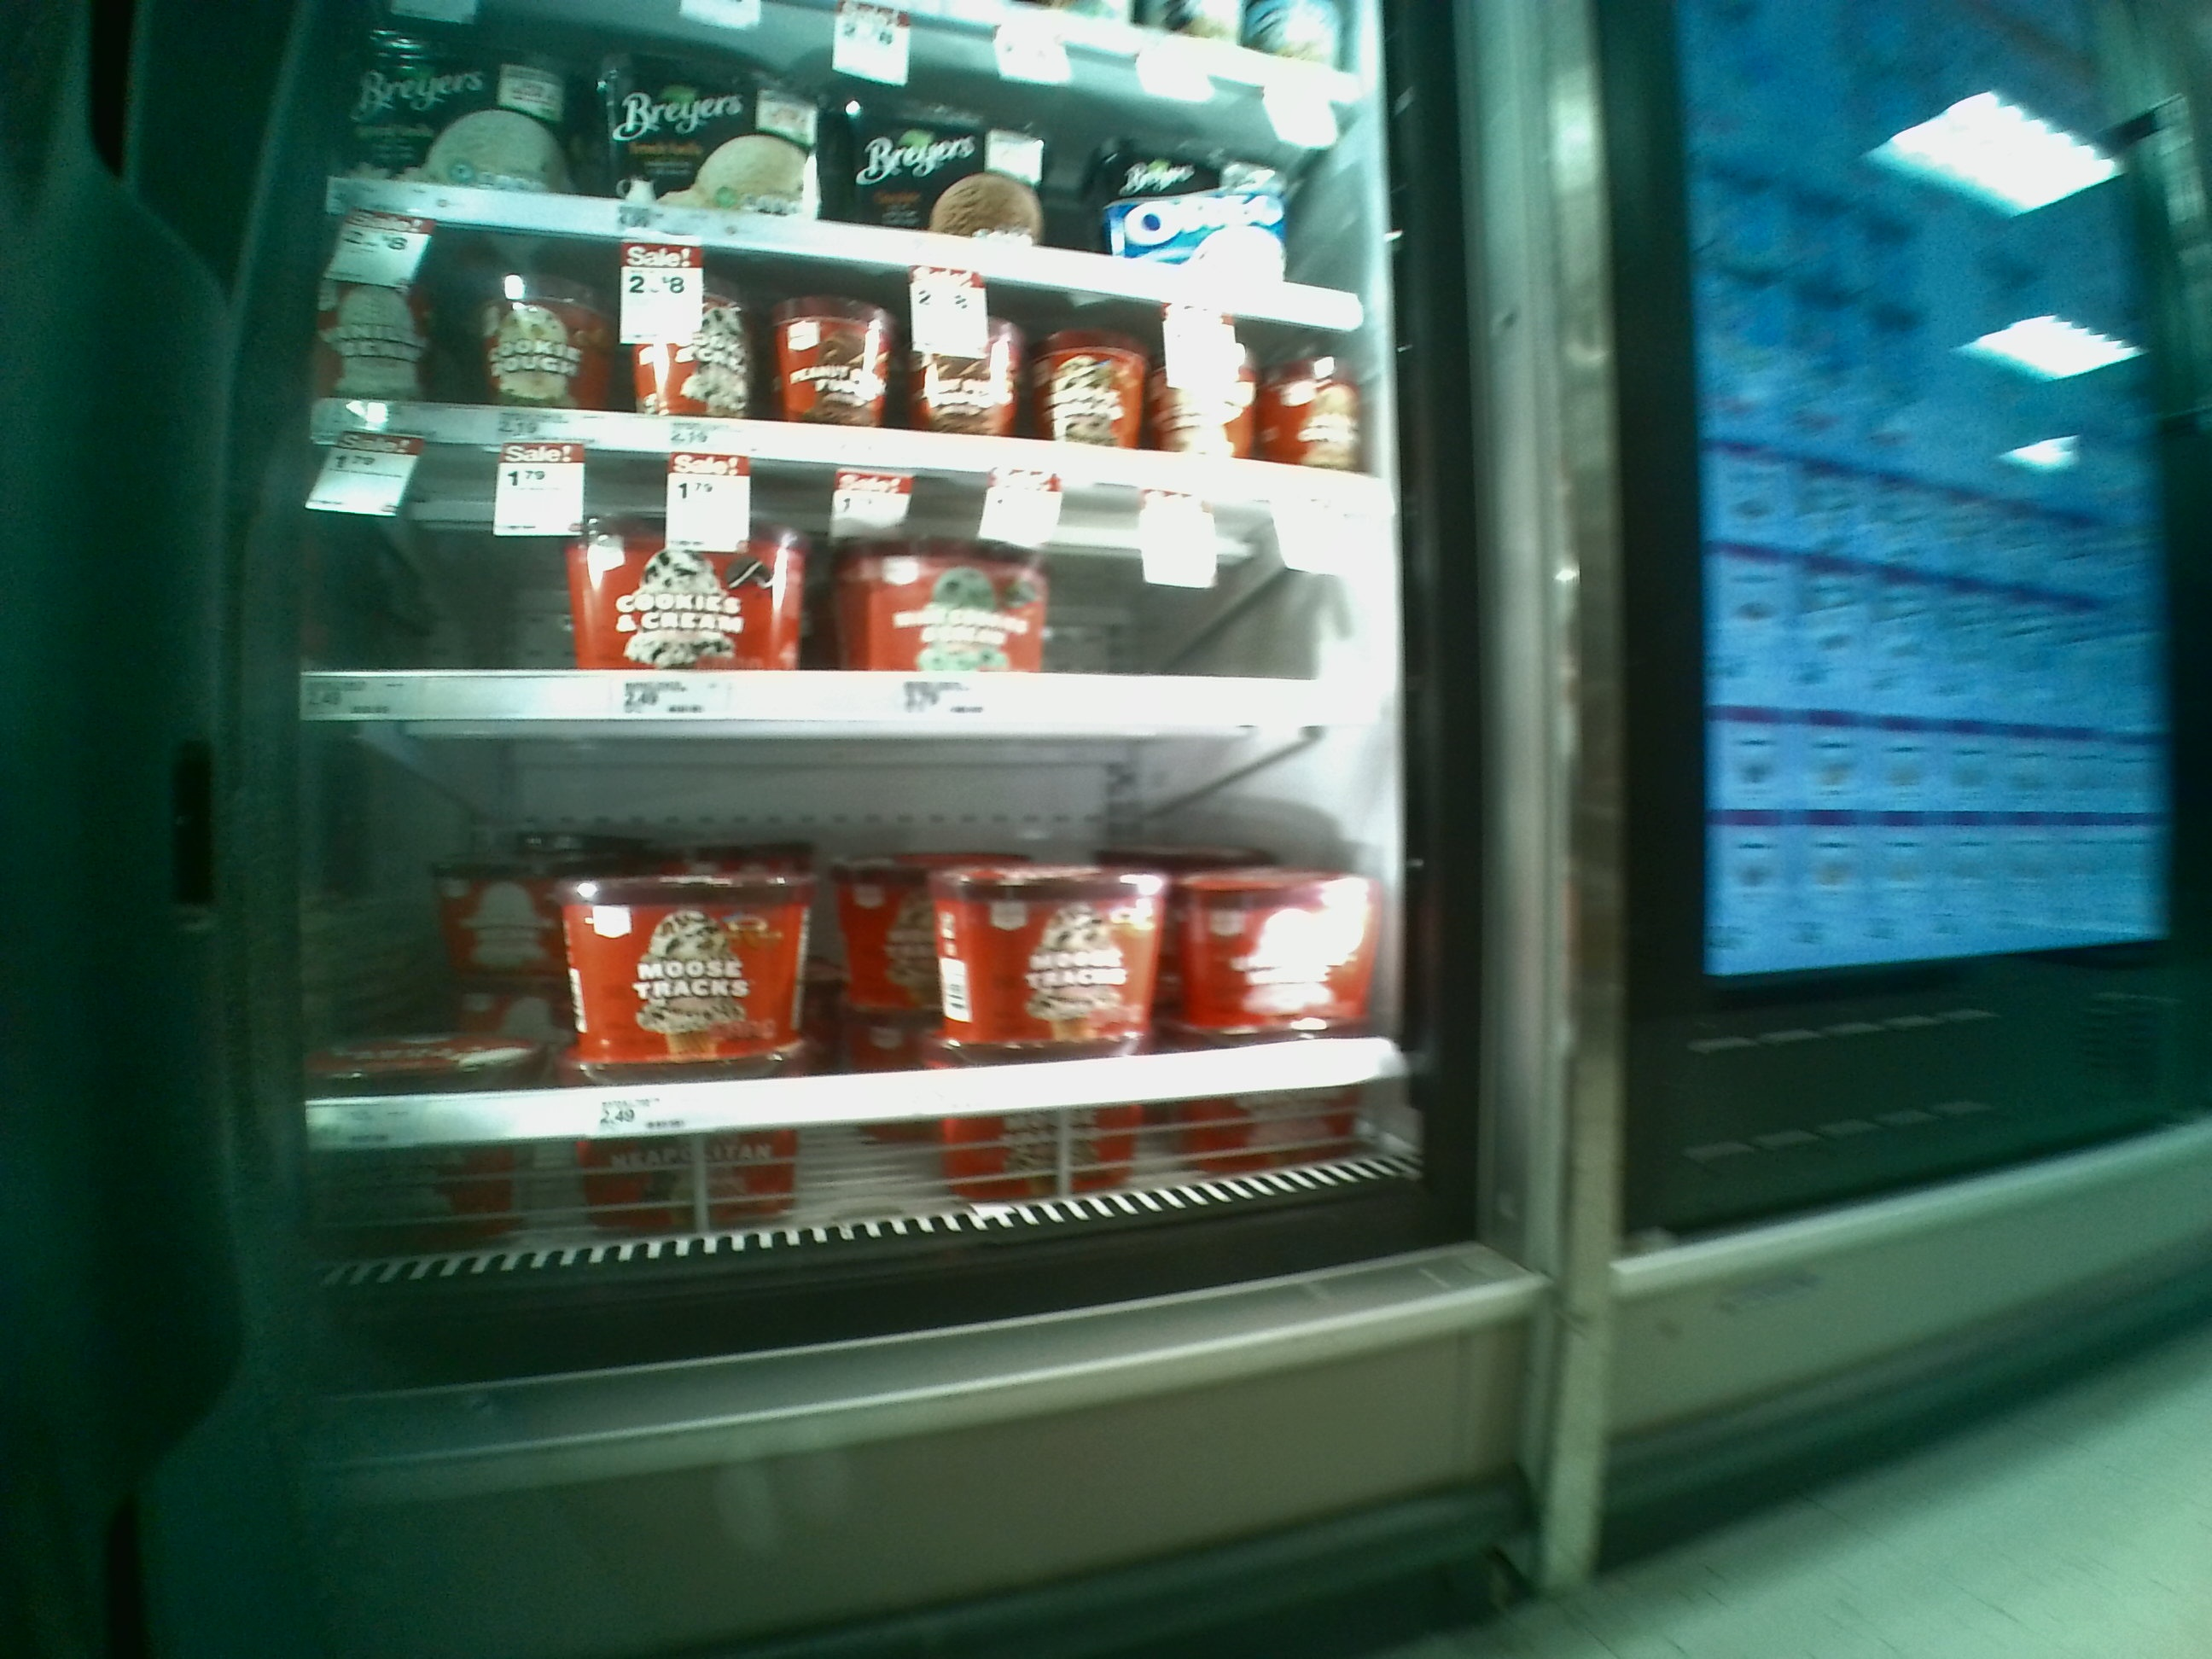ice-cream-shelf: (308, 718, 1407, 1140), (310, 443, 1393, 728)
